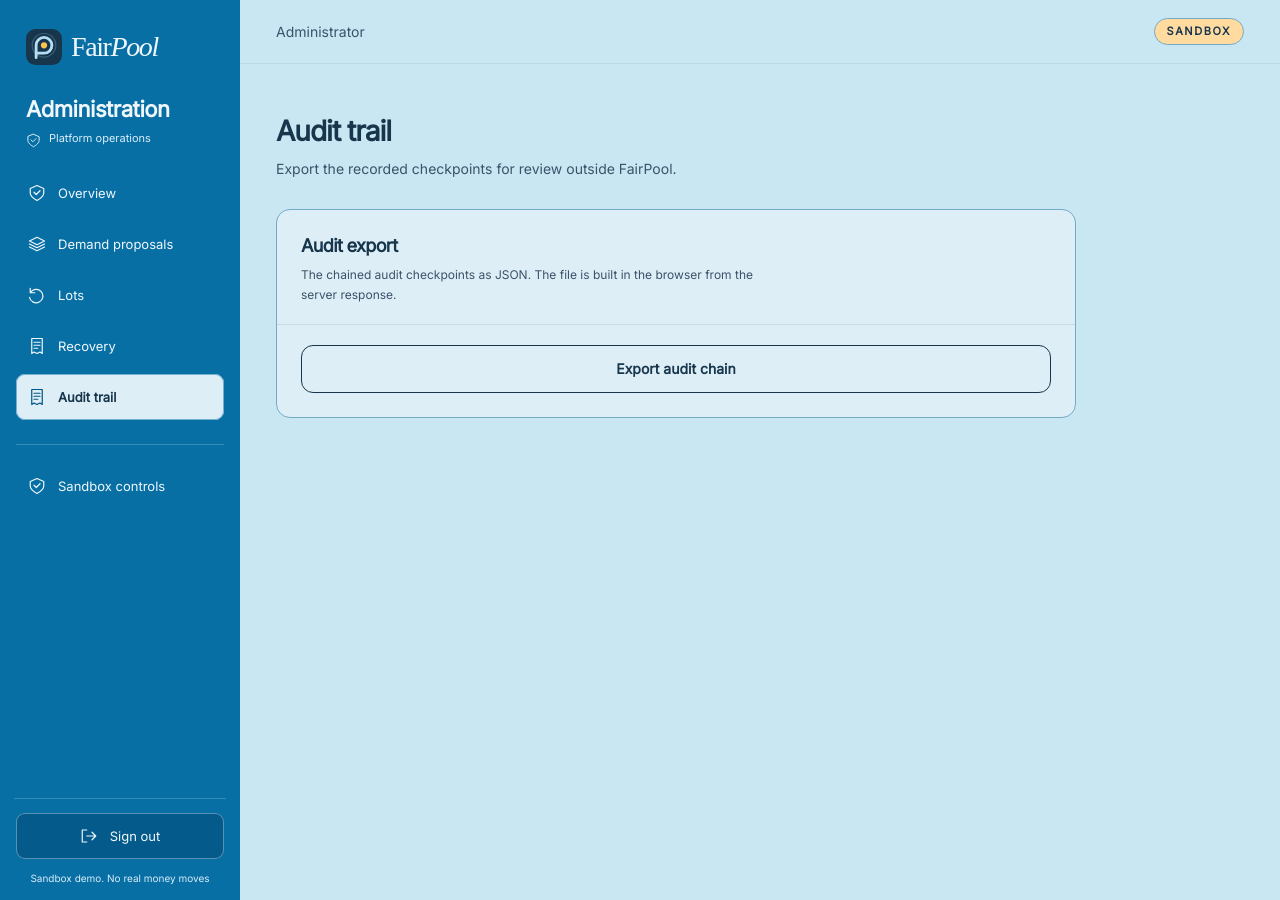
Test: the ops console › downloads the audit export as audit-export.json
Expected: the heading "Audit export" is shown, [301, 235, 398, 256]
Click the button "Export audit chain". click: (676, 369)
box: [301, 345, 1051, 393]
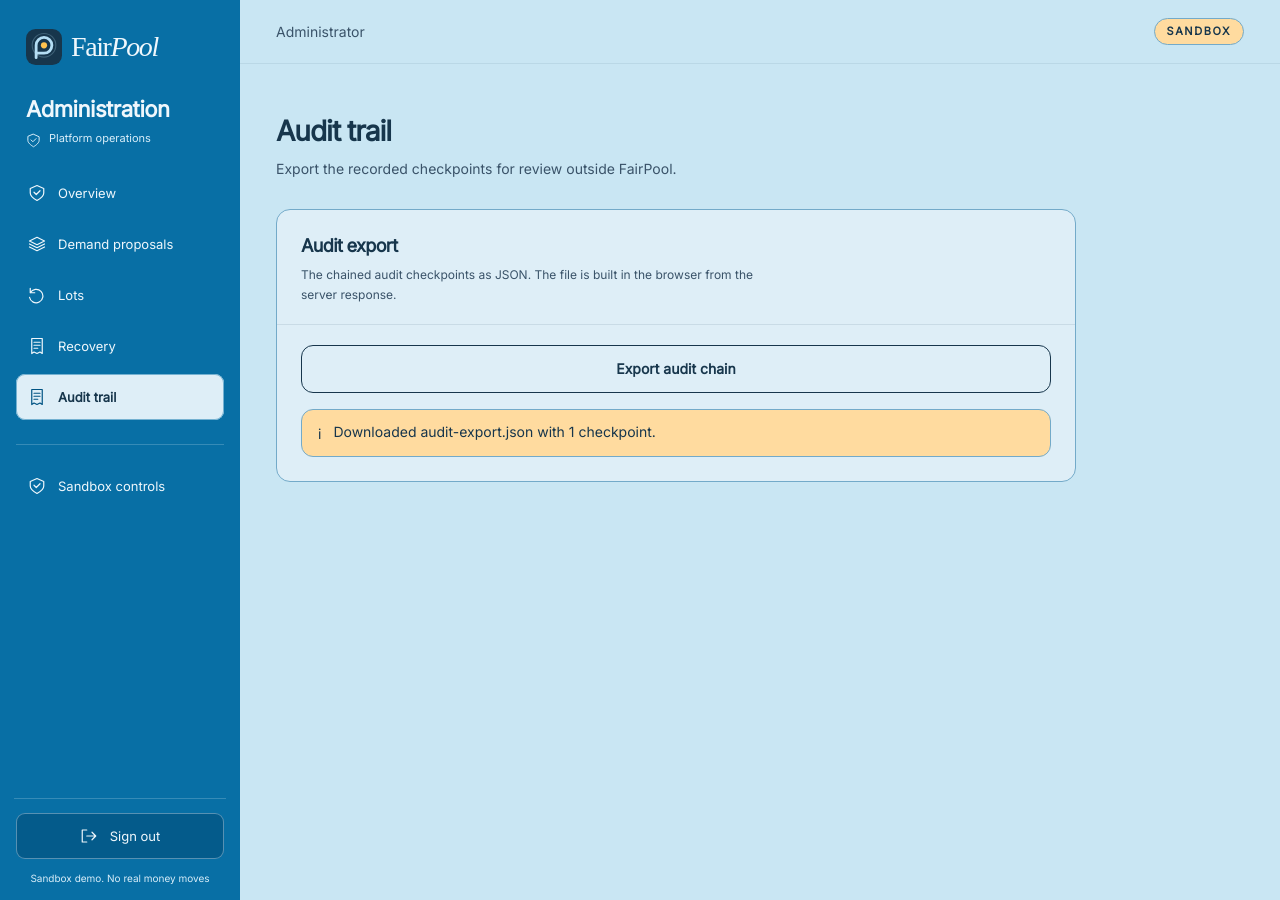
Now the text "Downloaded audit-export.json with 1 checkpoint." is shown, box [333, 422, 656, 442]
